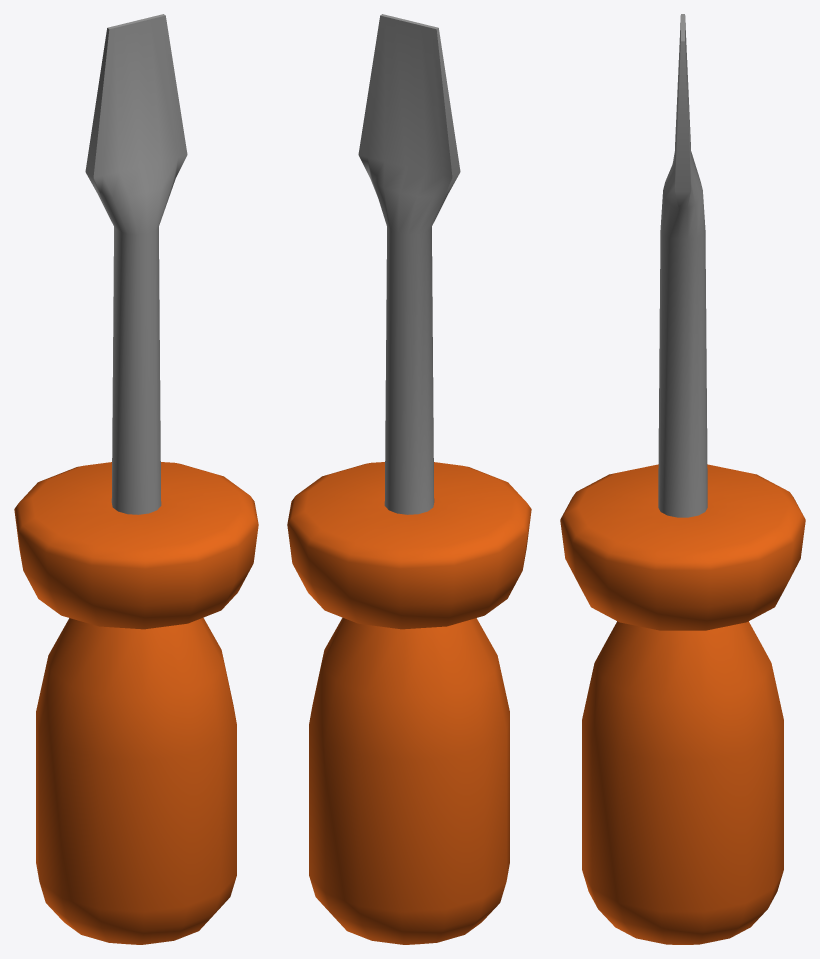
File: screwdriver.fbx
3 renders of one model, left to right at view 1: azimuth 30°, elevation 25°; view 2: azimuth 150°, elevation 25°; view 3: azimuth 270°, elevation 25°, orthographic.
Visible parts, largest first — view 1: Circle.009; view 2: Circle.009; view 3: Circle.009.
Boxes of the visible parts, x1=… form: Circle.009: x1=14, y1=14, x2=258, y2=944; Circle.009: x1=287, y1=14, x2=531, y2=944; Circle.009: x1=560, y1=14, x2=805, y2=944.
Size of the model in its own units: 1.74 by 7.24 by 1.78.
